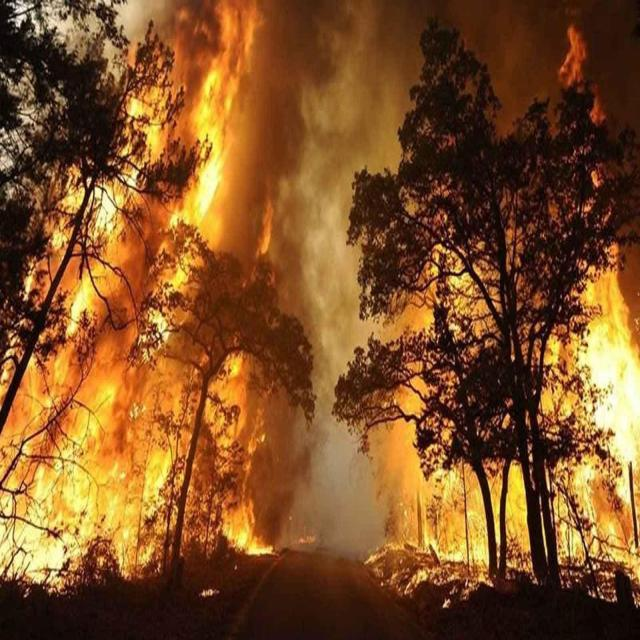Fire: (0, 1, 278, 602), (362, 24, 640, 610)
Smoke: (221, 1, 640, 543)
